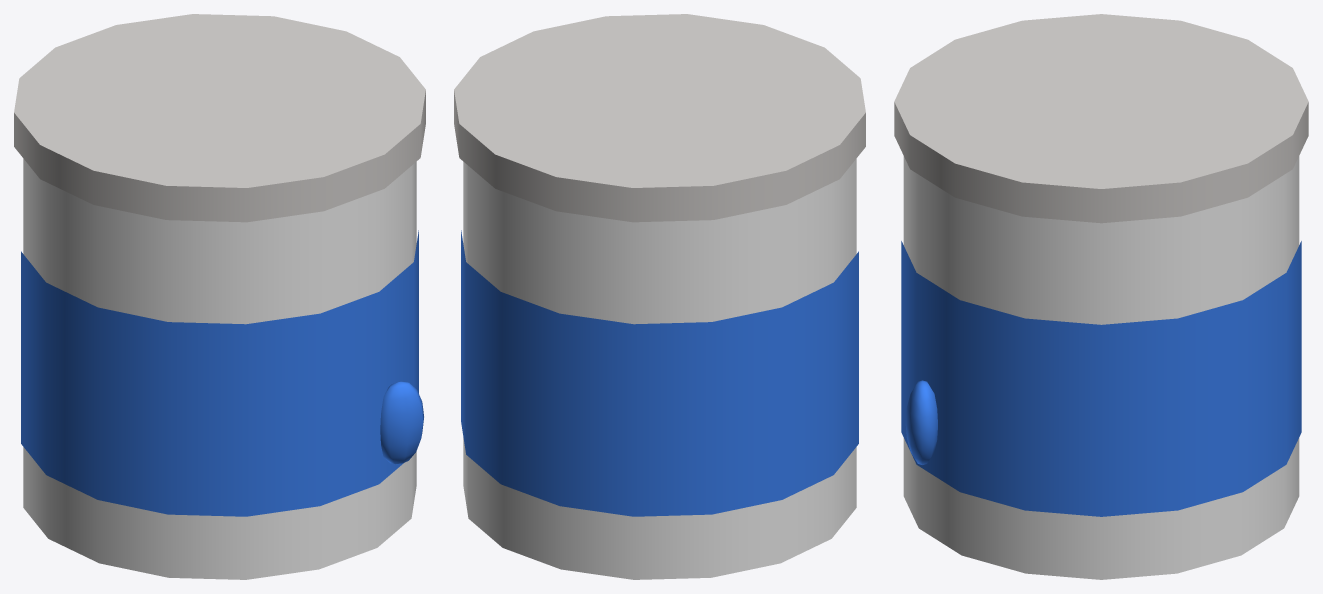
The model's file is paint_can.glb.
3 views of the same model, side by side, from view 1: azimuth 30°, elevation 25°; view 2: azimuth 150°, elevation 25°; view 3: azimuth 270°, elevation 25° (orthographic).
Bounding box in the file's own units: 1.59 × 1.67 × 1.59.
